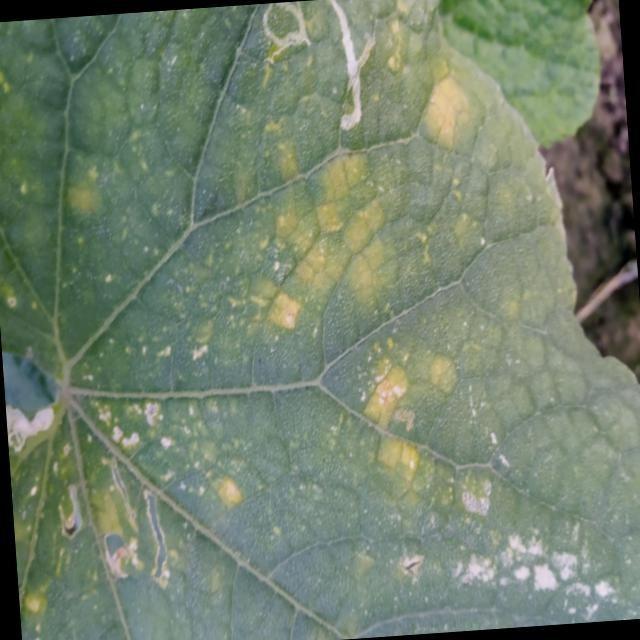cucumber_downy: (0, 0, 524, 640)
